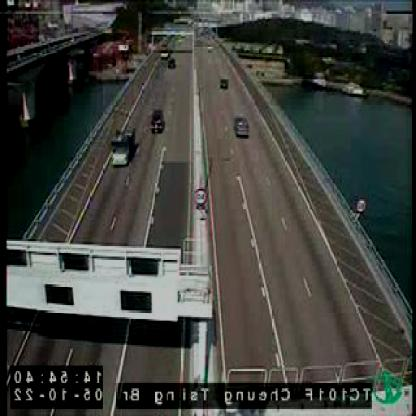Car: (234, 114, 250, 139), (151, 107, 166, 132), (221, 76, 229, 87)
Truck: (113, 128, 138, 165)
